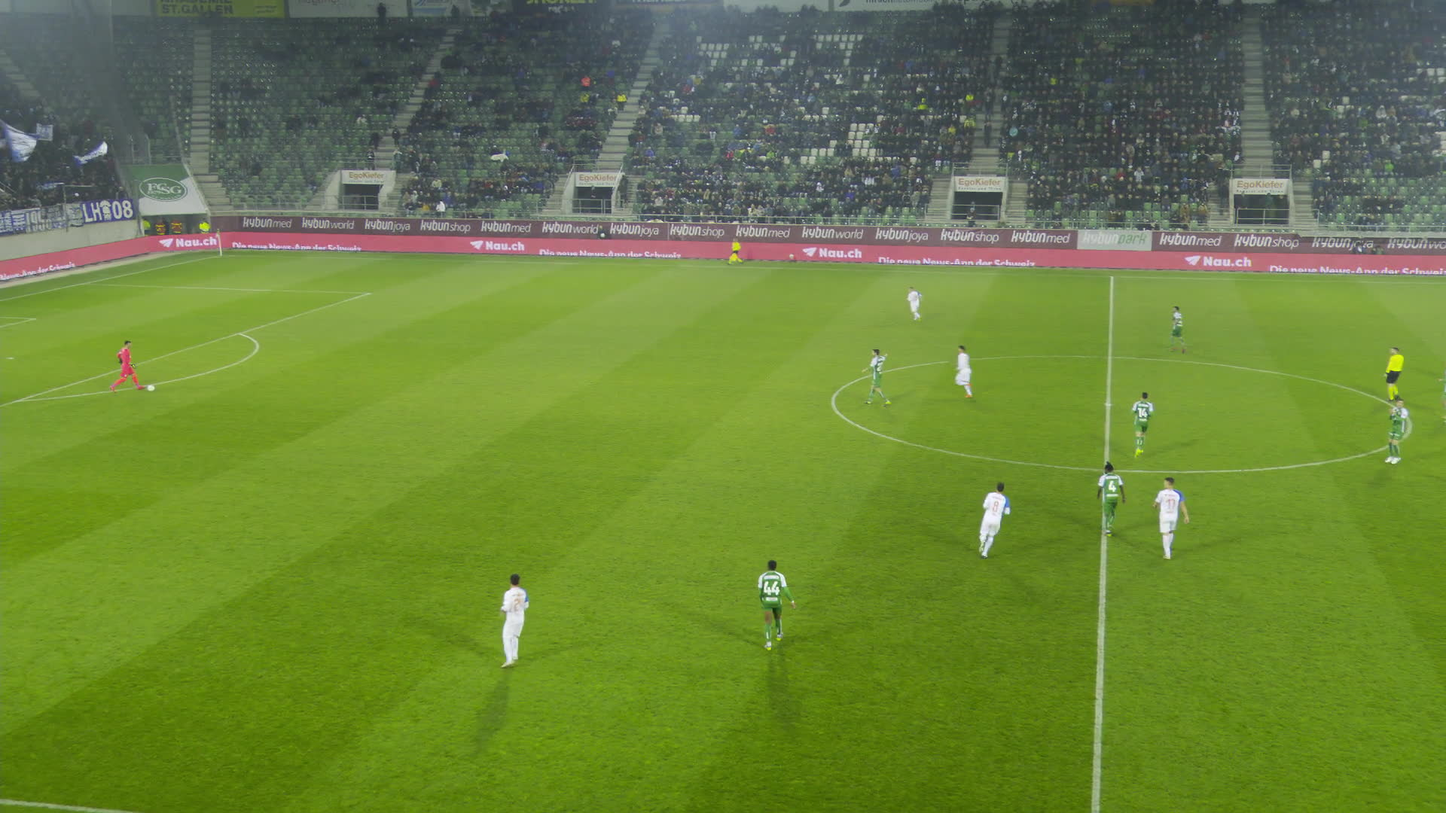ball: (147, 385, 154, 391)
player: (757, 559, 793, 650), (499, 572, 530, 668), (1155, 477, 1187, 559), (978, 481, 1010, 557), (1096, 461, 1126, 537), (862, 349, 892, 406), (112, 340, 143, 393), (1387, 400, 1410, 465), (1131, 391, 1152, 460), (956, 346, 980, 397), (1170, 306, 1191, 351), (907, 288, 923, 325), (1438, 362, 1445, 417)
referee: (1385, 347, 1405, 401), (728, 237, 743, 265)
